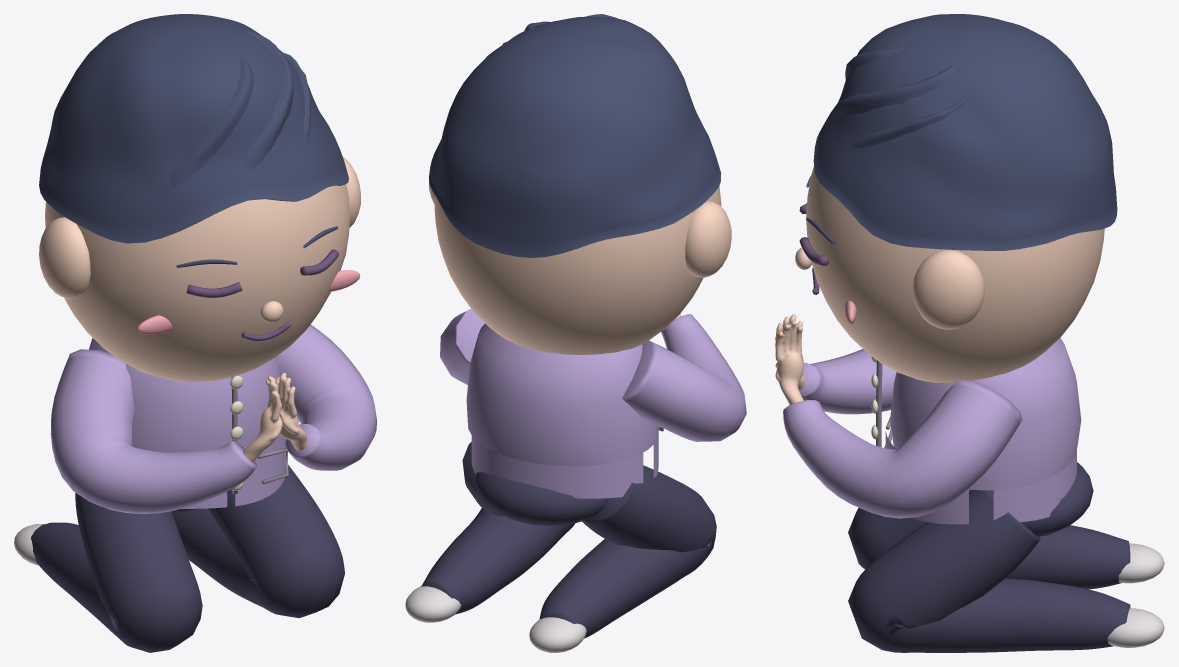
File: meditator_male_kneel_prayer_undercut_p07a1.glb
3 views of the same model, side by side, from view 1: azimuth 30°, elevation 25°; view 2: azimuth 150°, elevation 25°; view 3: azimuth 270°, elevation 25° (orthographic). The views are drawn at different scales.
Parts seen in each view (by area): view 1: hair_neat_male_tapered_undercut_p07a1_object, skin_rose_cream_UpperBodyBreath_object, ao_ba_ba_top_UpperBodyBreath_object, ao_ba_ba_pants_SeatRoot_object, eyes_mauve_UpperBodyBreath_object, skin_blush_UpperBodyBreath_object, sandal_trim_SeatRoot_object, ao_ba_ba_placket_UpperBodyBreath_object; view 2: hair_neat_male_tapered_undercut_p07a1_object, ao_ba_ba_top_UpperBodyBreath_object, ao_ba_ba_pants_SeatRoot_object, skin_rose_cream_UpperBodyBreath_object, sandal_trim_SeatRoot_object; view 3: hair_neat_male_tapered_undercut_p07a1_object, ao_ba_ba_top_UpperBodyBreath_object, ao_ba_ba_pants_SeatRoot_object, skin_rose_cream_UpperBodyBreath_object, sandal_trim_SeatRoot_object, ao_ba_ba_placket_UpperBodyBreath_object, eyes_mauve_UpperBodyBreath_object.
Part boxes in pixels (x1,y1,x2,y2): hair_neat_male_tapered_undercut_p07a1_object: [39, 14, 348, 267]; skin_rose_cream_UpperBodyBreath_object: [39, 157, 360, 462]; ao_ba_ba_top_UpperBodyBreath_object: [50, 324, 376, 513]; ao_ba_ba_pants_SeatRoot_object: [31, 465, 344, 652]; eyes_mauve_UpperBodyBreath_object: [186, 249, 339, 340]; skin_blush_UpperBodyBreath_object: [137, 270, 360, 334]; sandal_trim_SeatRoot_object: [14, 524, 43, 565]; ao_ba_ba_placket_UpperBodyBreath_object: [231, 375, 288, 494]; hair_neat_male_tapered_undercut_p07a1_object: [429, 14, 721, 257]; ao_ba_ba_top_UpperBodyBreath_object: [440, 309, 746, 498]; ao_ba_ba_pants_SeatRoot_object: [421, 442, 716, 638]; skin_rose_cream_UpperBodyBreath_object: [429, 181, 731, 354]; sandal_trim_SeatRoot_object: [405, 586, 586, 652]; hair_neat_male_tapered_undercut_p07a1_object: [806, 14, 1117, 250]; ao_ba_ba_top_UpperBodyBreath_object: [783, 338, 1081, 524]; ao_ba_ba_pants_SeatRoot_object: [848, 462, 1130, 652]; skin_rose_cream_UpperBodyBreath_object: [775, 166, 1104, 404]; sandal_trim_SeatRoot_object: [1107, 543, 1164, 647]; ao_ba_ba_placket_UpperBodyBreath_object: [876, 360, 891, 448]; eyes_mauve_UpperBodyBreath_object: [799, 203, 828, 294].
Bounding box in the file's own units: 0.672 × 1.21 × 0.7285.
